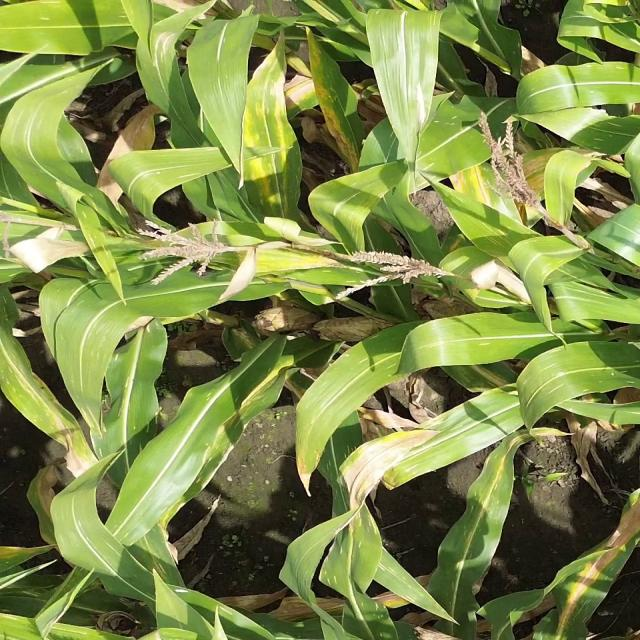gray-leaf-spot: (210, 374, 271, 459), (577, 108, 640, 159), (72, 326, 121, 390), (77, 224, 121, 275)
northern-leaf-blight: (300, 53, 390, 172), (236, 98, 314, 208), (10, 365, 85, 477), (288, 418, 336, 484)
southern-leaf-blight: (332, 527, 386, 600), (553, 357, 638, 399), (460, 480, 507, 553)
